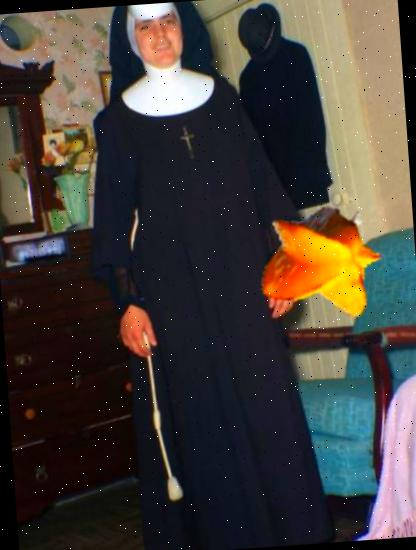Carambula: (253, 191, 391, 330)
